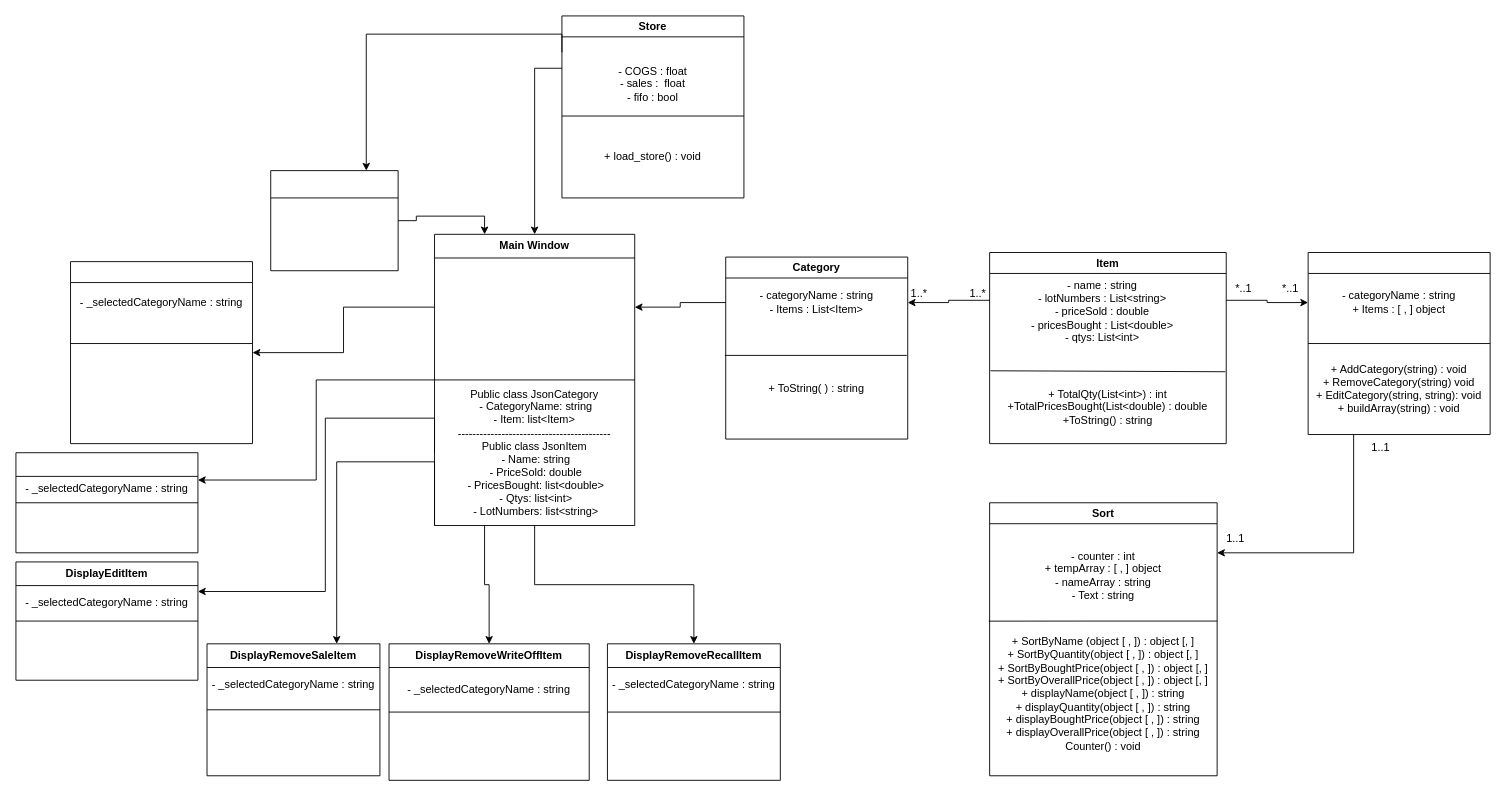
This 1507x796 diagram has some shape labels left out. The shapes that lost their labels are listed below. From the top down, each one's box as (x1, y1, x2, y2) in pixels, then its label:
(270, 170, 398, 271): FifoWindow
(70, 261, 253, 444): DisplayAddNewItem
(1307, 252, 1490, 435): CategorySorting
(15, 452, 198, 553): DisplayAddExistingItem
